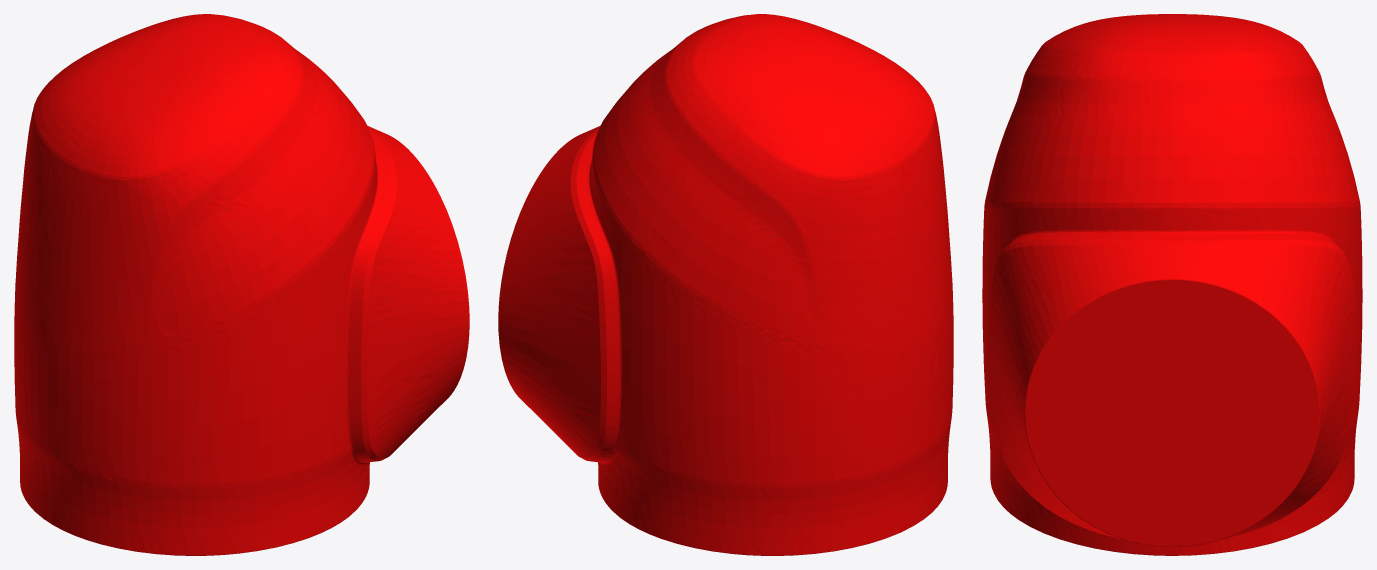
The picture shows the model from 3 angles, left to right: view 1: azimuth 30°, elevation 25°; view 2: azimuth 150°, elevation 25°; view 3: azimuth 270°, elevation 25°; orthographic projection. The views are drawn at different scales.
Visible parts, largest first — view 1: H2017_2_0; view 2: H2017_2_0; view 3: H2017_2_0.
Part boxes in pixels (left/top/right/bottom): H2017_2_0: left=14, top=14, right=469, bottom=555; H2017_2_0: left=498, top=14, right=953, bottom=555; H2017_2_0: left=982, top=14, right=1362, bottom=555.
Size of the model in its own units: 243 by 213 by 283.
